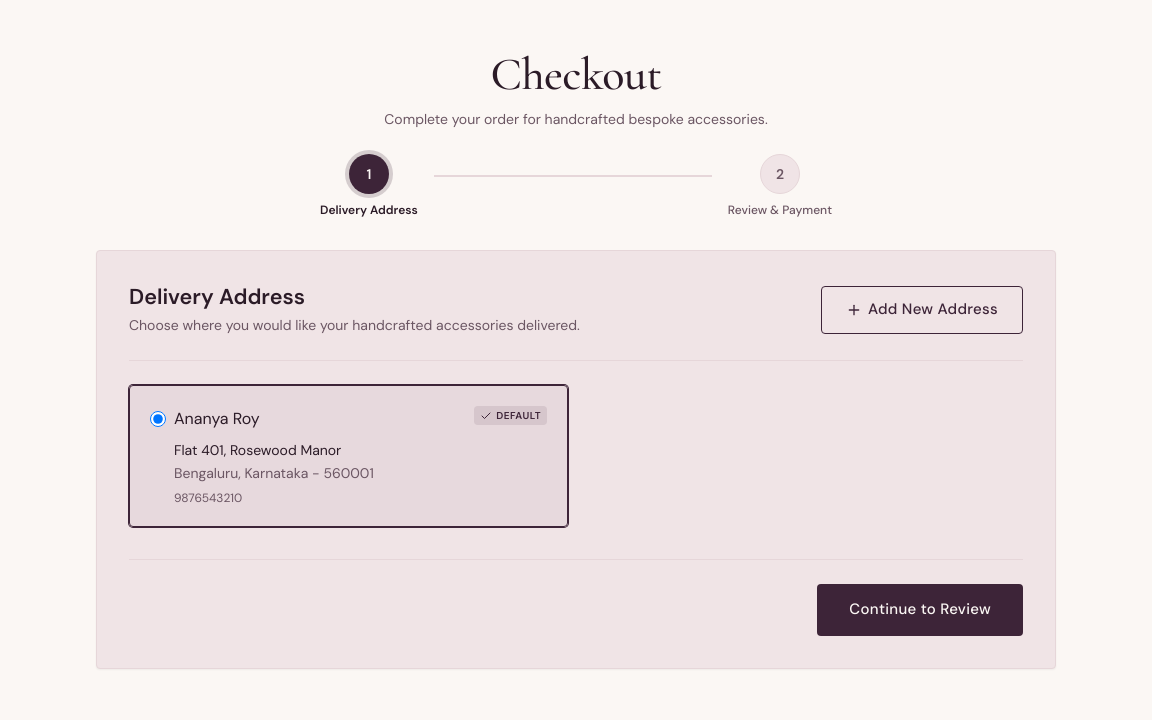
Test case: FE-29: Checkout flow › Order Review, Pricing, and Payment Handoff › keeps the cart and shows retry option when starting checkout fails
Click the button with test id "continue-to-review-btn": (920, 610) [817,584,1023,636]
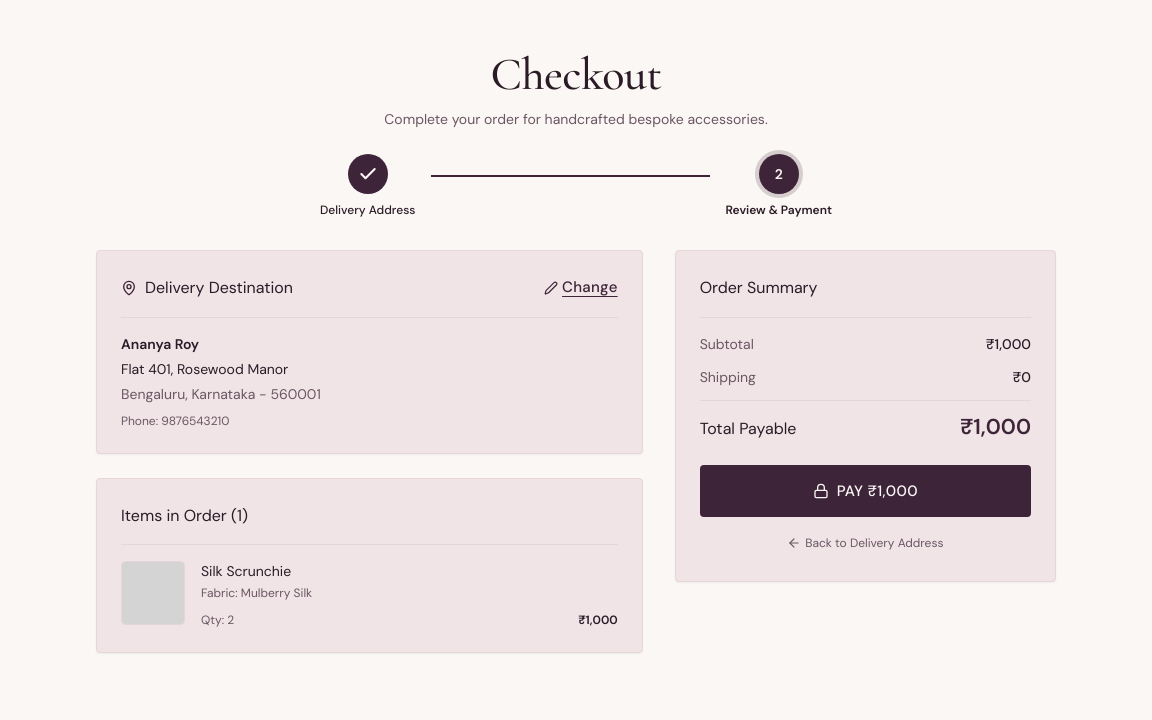
Click the button with test id "checkout-pay-btn": (865, 491) [700,465,1031,517]
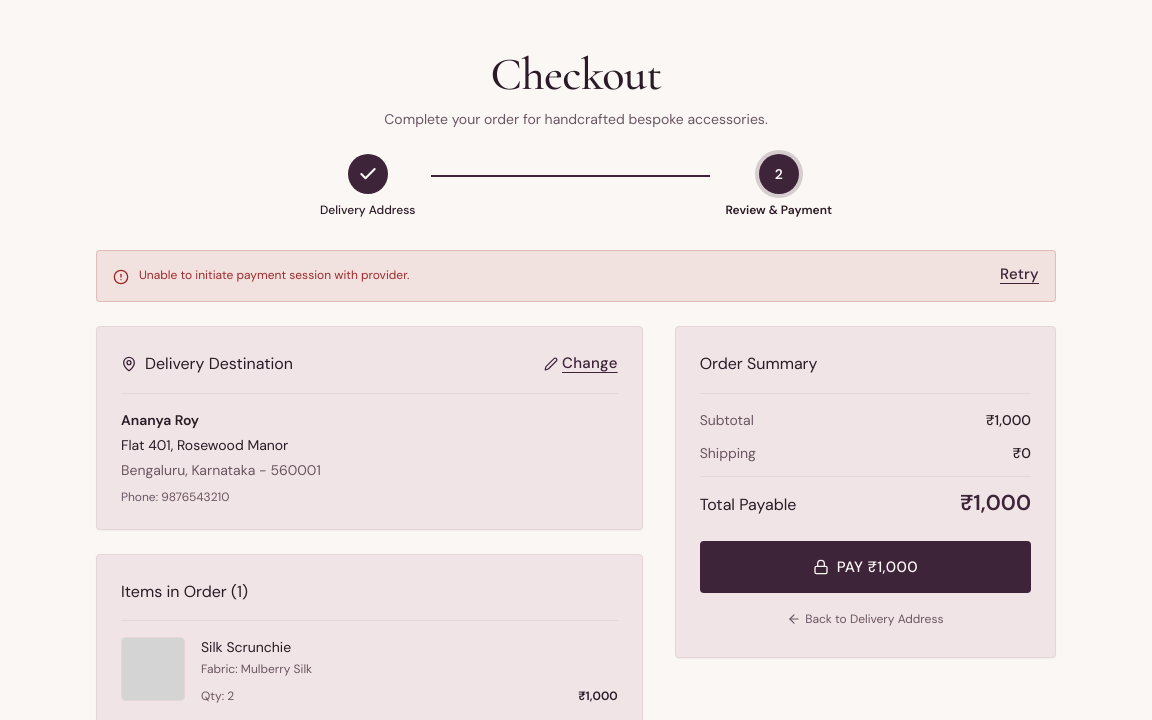
Result: the heading "Silk Scrunchie" is shown at [201,638,291,656]
Result: the message "Unable to initiate payment session with provider. Retry" is shown at [96,250,1056,302]
Result: the button "Retry" is shown at [1000,267,1039,282]
